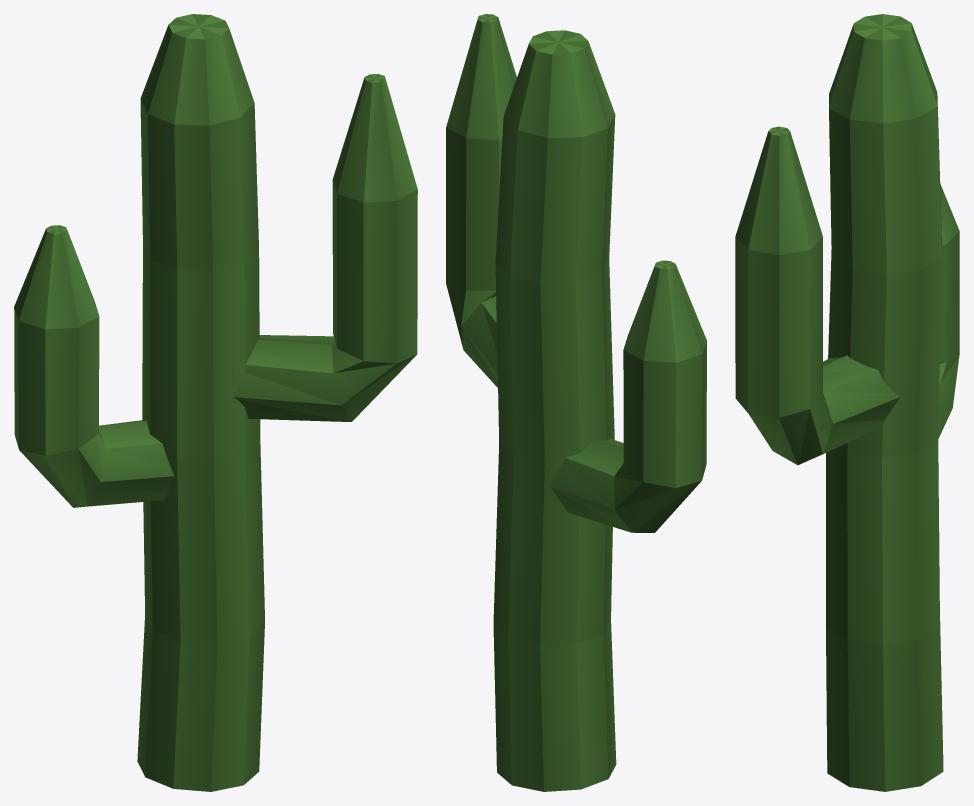
The model's file is cactus_saguaro_c.glb.
3 renders of one model, left to right at view 1: azimuth 30°, elevation 25°; view 2: azimuth 150°, elevation 25°; view 3: azimuth 270°, elevation 25°, orthographic. The views are drawn at different scales.
Parts seen in each view (by area): view 1: cactus_saguaro_c_solid; view 2: cactus_saguaro_c_solid; view 3: cactus_saguaro_c_solid.
Part boxes in pixels (left/top/right/bottom): cactus_saguaro_c_solid: left=14, top=14, right=417, bottom=791; cactus_saguaro_c_solid: left=446, top=14, right=706, bottom=791; cactus_saguaro_c_solid: left=735, top=14, right=959, bottom=791.
Bounding box in the file's own units: 1.84 × 4.01 × 1.1.
